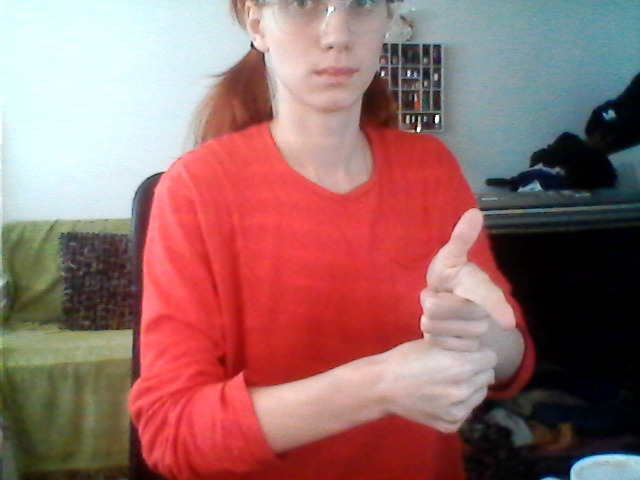kamera: (384, 201, 528, 451)
